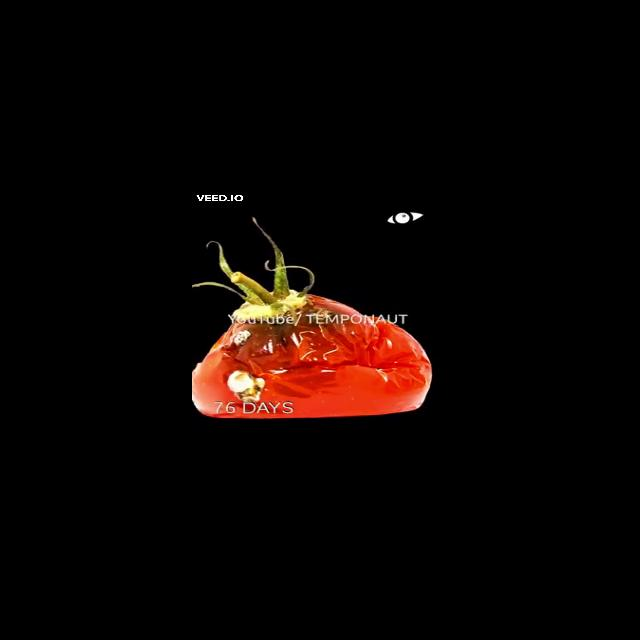tomato: (193, 258, 432, 421)
